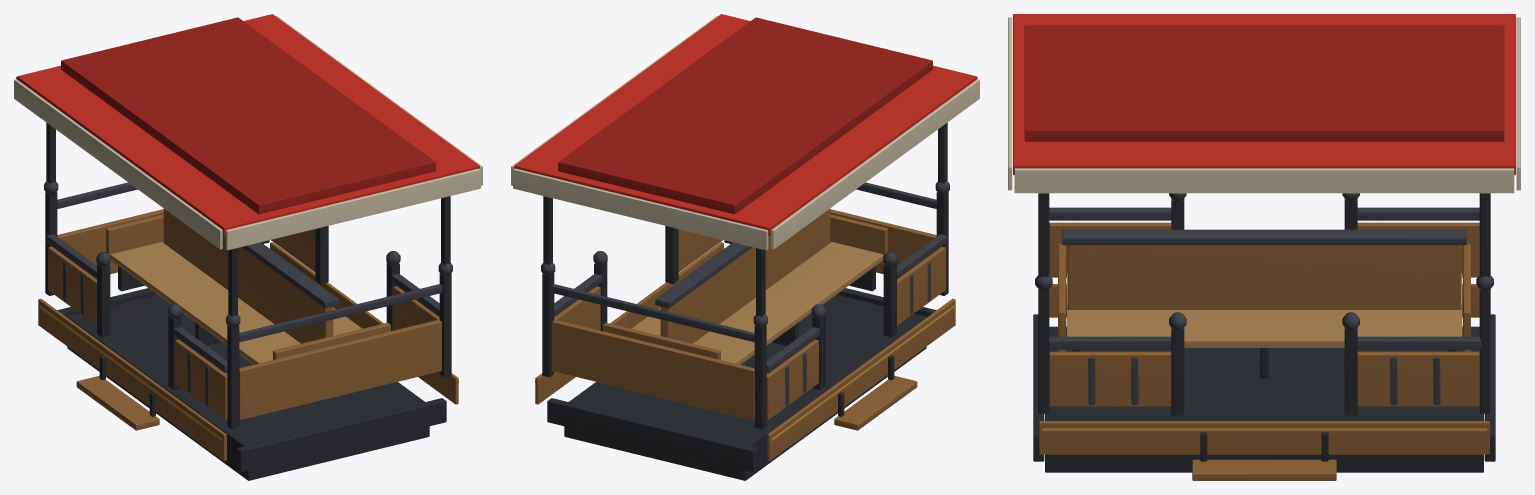
The model's file is passenger-car.glb.
3 views of the same model, side by side, from view 1: azimuth 30°, elevation 25°; view 2: azimuth 150°, elevation 25°; view 3: azimuth 270°, elevation 25° (orthographic). The views are drawn at different scales.
Parts seen in each view (by area): view 1: car_fit, car_upgrade; view 2: car_fit, car_upgrade; view 3: car_fit, car_upgrade.
Boxes of the visible parts, x1,y1,x2,y2 form: car_fit: [38, 181, 458, 480]; car_upgrade: [14, 14, 482, 440]; car_fit: [535, 181, 955, 480]; car_upgrade: [511, 14, 979, 440]; car_fit: [1033, 193, 1495, 480]; car_upgrade: [1008, 14, 1520, 431].
Size of the model in its own units: 2.76 by 2.61 by 3.55.
